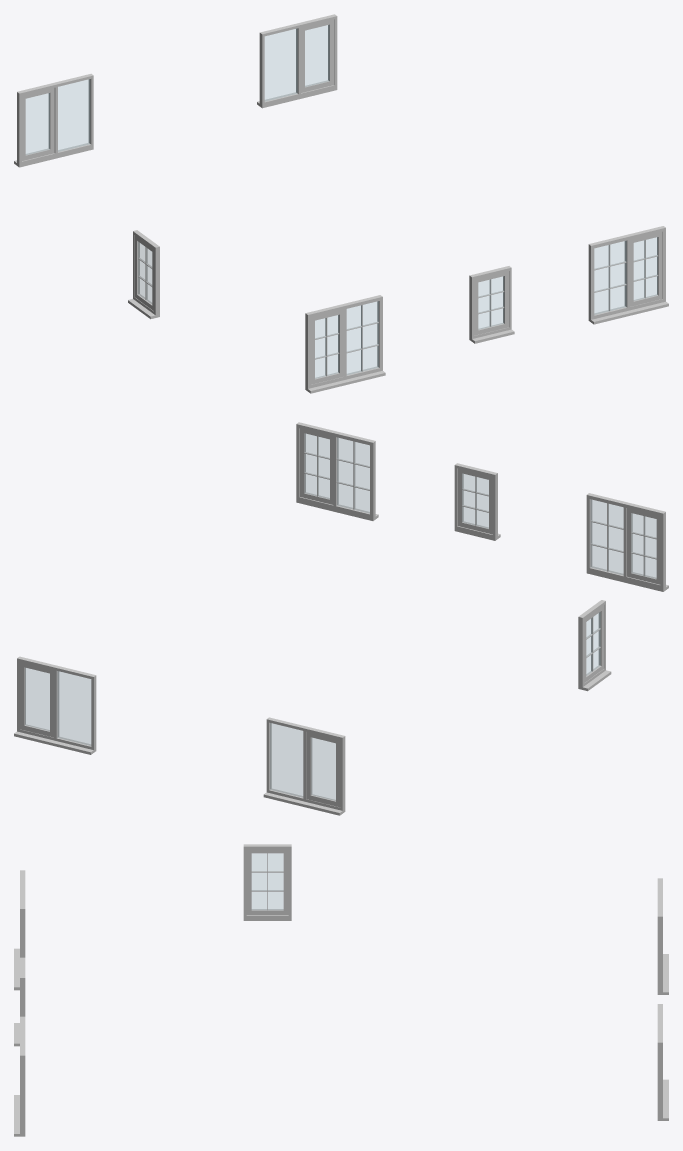
The model's file is NP03__Storey__FirstFloor__ProposedWindows__MeshModel__.glb.
The picture shows the model from 3 angles, top to bottom: view 1: azimuth 30°, elevation 25°; view 2: azimuth 150°, elevation 25°; view 3: azimuth 270°, elevation 25°; orthographic projection. The views are drawn at different scales.
Visible parts, largest first — view 1: 24__ProposedBuilding__Windows::Default, 24__ProposedBuilding__Windows::MAT101__Glass__ClearDefault; view 2: 24__ProposedBuilding__Windows::Default, 24__ProposedBuilding__Windows::MAT101__Glass__ClearDefault; view 3: 24__ProposedBuilding__Windows::Default, 24__ProposedBuilding__Windows::MAT101__Glass__ClearDefault.
Boxes of the visible parts, <box> form: 24__ProposedBuilding__Windows::Default: <box>14,14,668,393</box>; 24__ProposedBuilding__Windows::MAT101__Glass__ClearDefault: <box>26,25,657,378</box>; 24__ProposedBuilding__Windows::Default: <box>14,422,668,815</box>; 24__ProposedBuilding__Windows::MAT101__Glass__ClearDefault: <box>25,433,656,800</box>; 24__ProposedBuilding__Windows::Default: <box>14,844,668,1136</box>; 24__ProposedBuilding__Windows::MAT101__Glass__ClearDefault: <box>252,853,283,909</box>.
Bounding box in the file's own units: 6.56 × 1.2 × 8.56.
